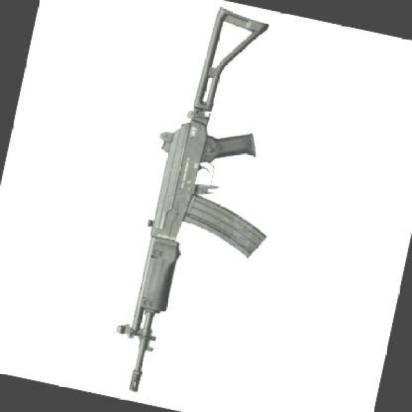Gun: (63, 0, 314, 412)
